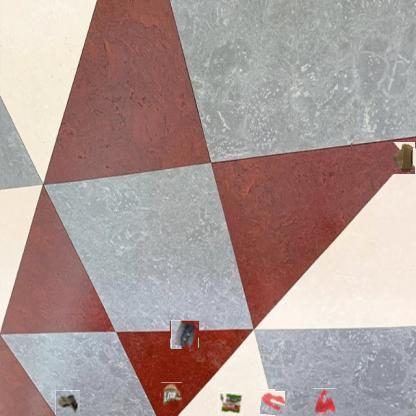dirty: (391, 142, 415, 174), (171, 321, 198, 348), (55, 390, 80, 415), (218, 392, 243, 415), (160, 383, 183, 407)
liquid: (312, 388, 336, 415), (260, 390, 285, 415)
